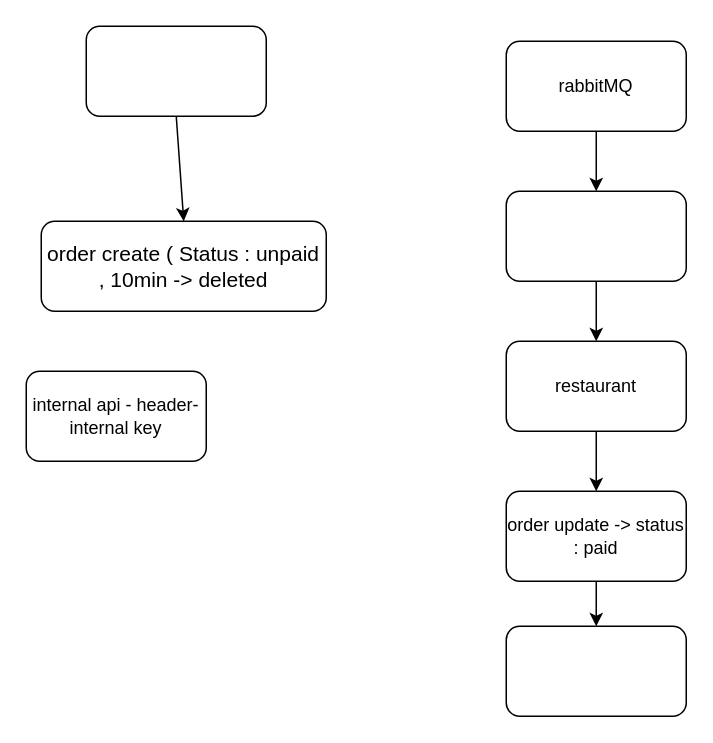
This 713x743 diagram has some shape labels left out. Each missing label, with the centre of its shape:
"Pay with razorpay | stripe" belongs at pixel 175 70.
"payment success" belongs at pixel 595 235.
"realTime Service (restaurant dashboard)" belongs at pixel 595 670.
